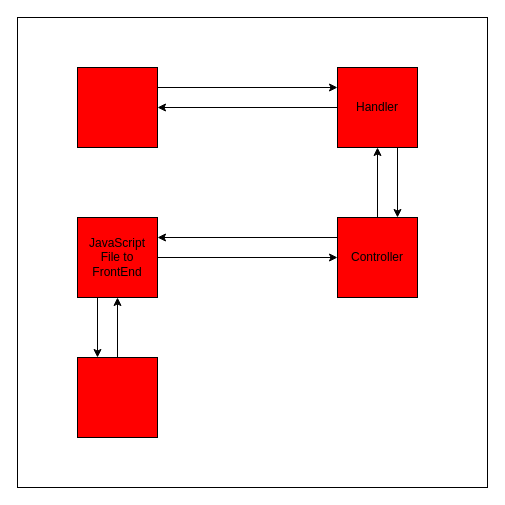
Image size: 505x505. Some labels were removed from this diagram. The shapes that lost their labels are listed below. From the top down, each one's centre as x and y in pixels, then its label:
At point (117, 107): "Model".
At point (117, 397): "Html".
